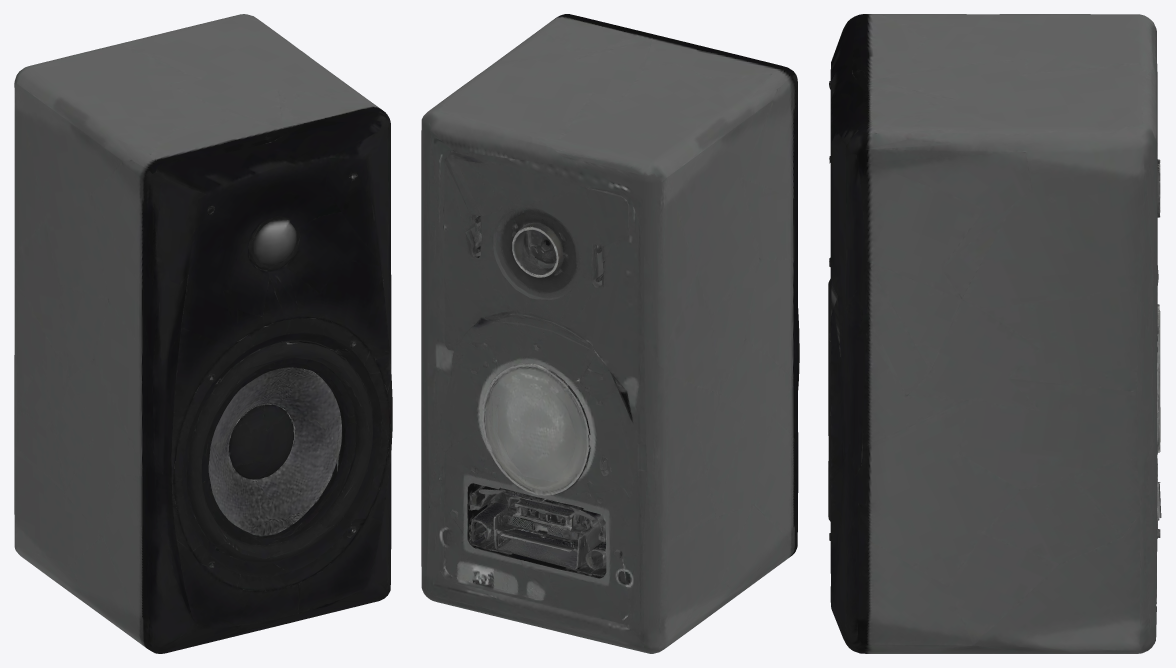
The model's file is monitor.glb.
The picture shows the model from 3 angles, left to right: view 1: azimuth 30°, elevation 25°; view 2: azimuth 150°, elevation 25°; view 3: azimuth 270°, elevation 25°; orthographic projection. The views are drawn at different scales.
Size of the model in its own units: 0.9883 by 1.9 by 1.09.
Materials: 1 (1 with a texture image).
